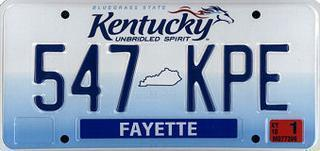placa de veiculo: (6, 1, 320, 148)
